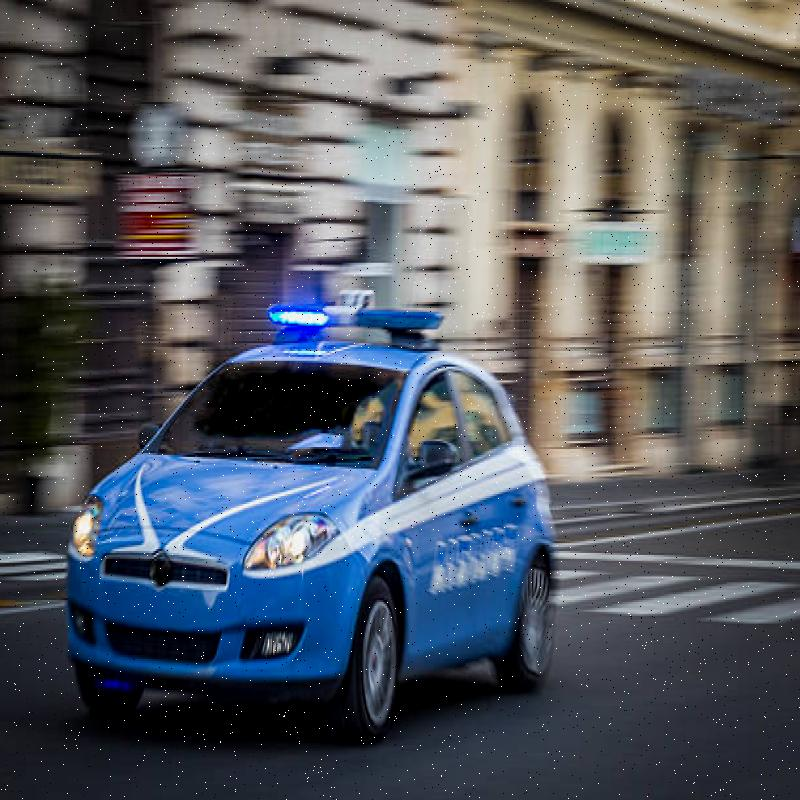car: (63, 349, 544, 754)
